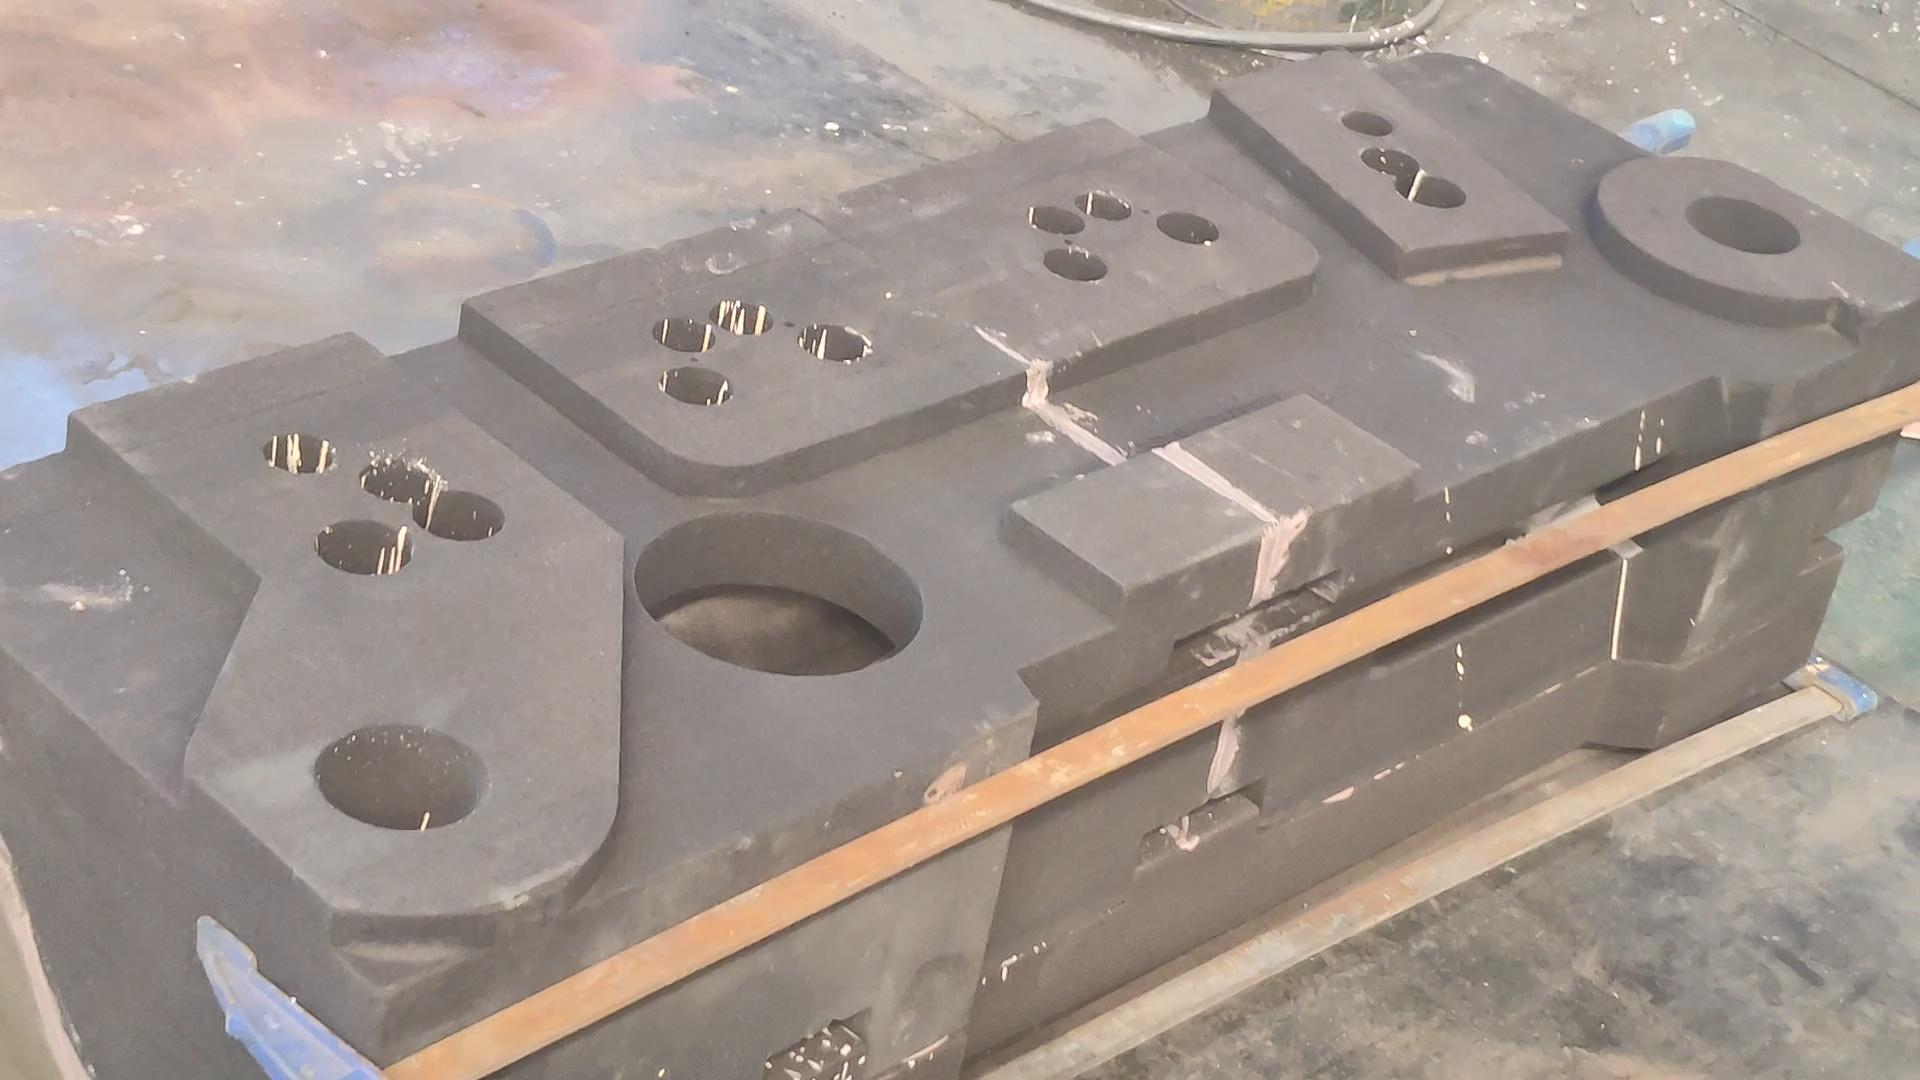pouring hole: (310, 725, 489, 827), (1683, 195, 1803, 253)
